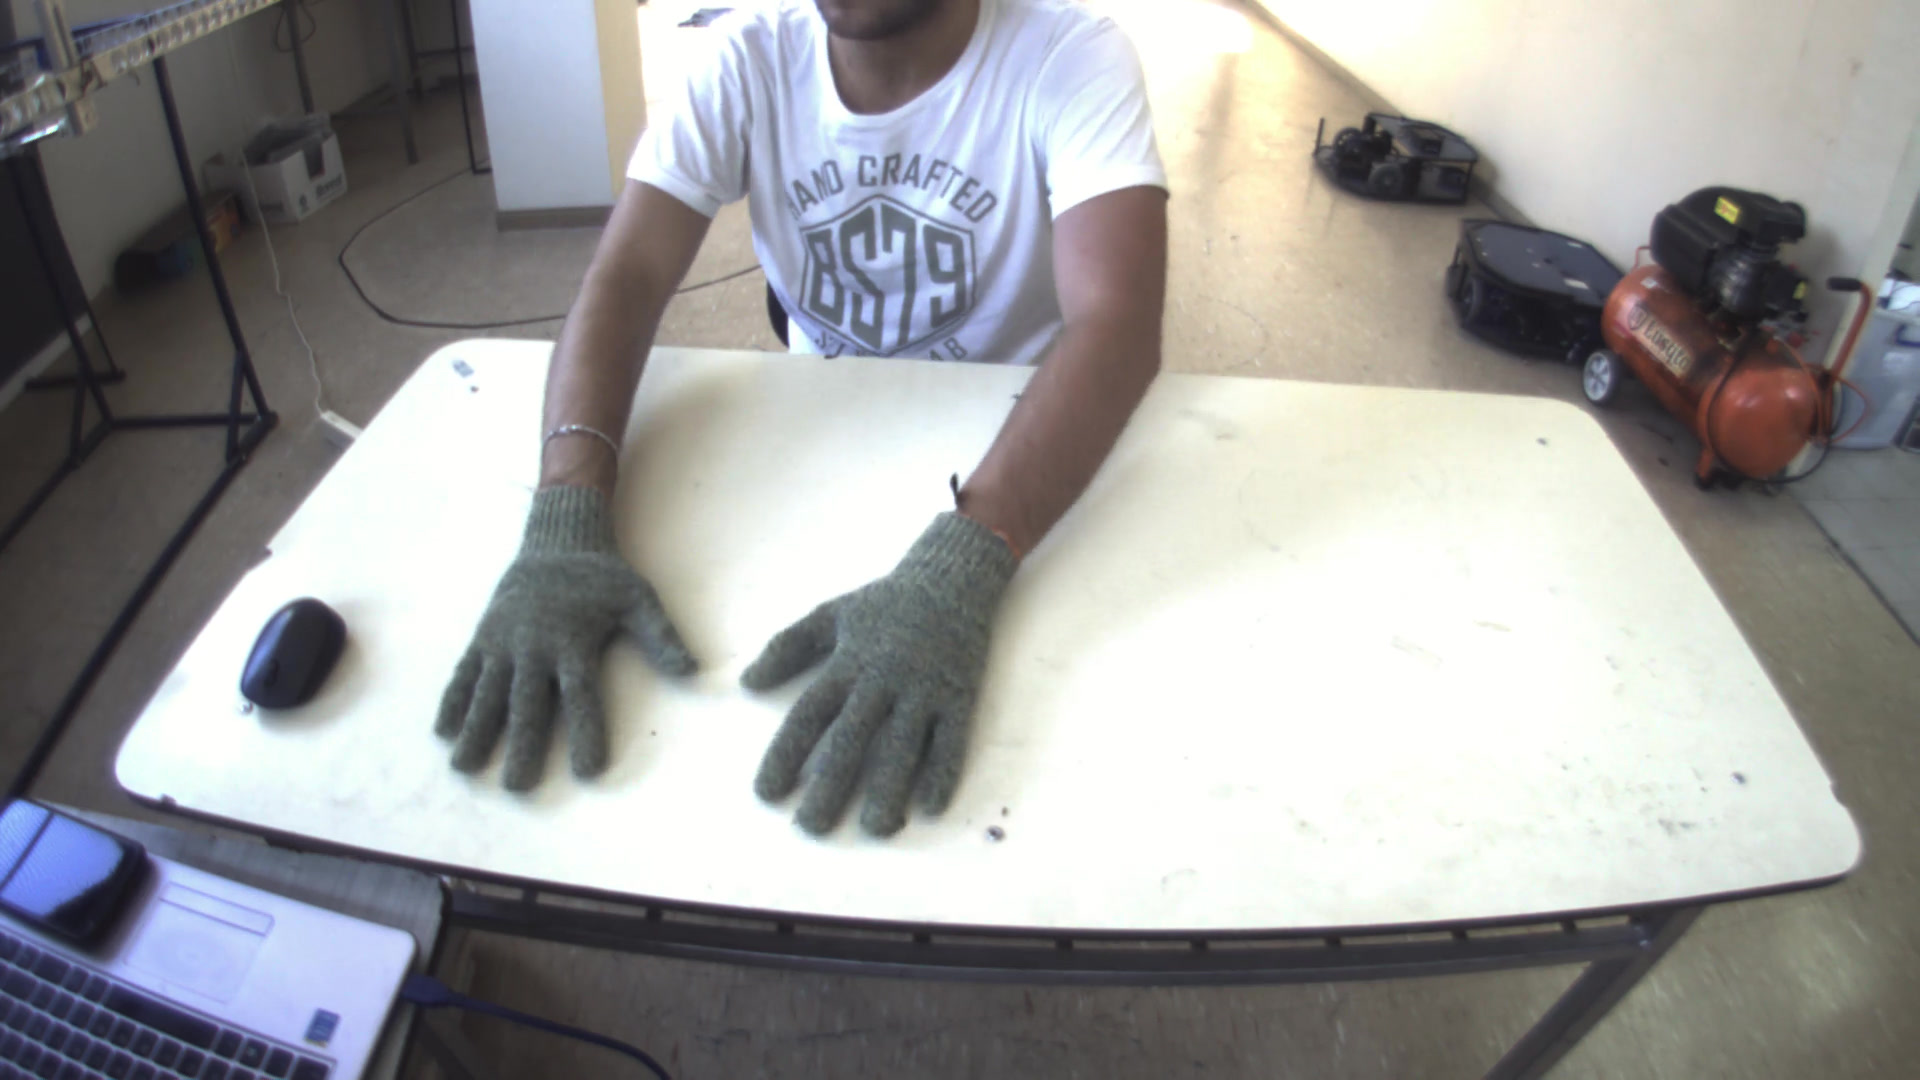hand: (723, 514, 1025, 855), (415, 460, 692, 808)
